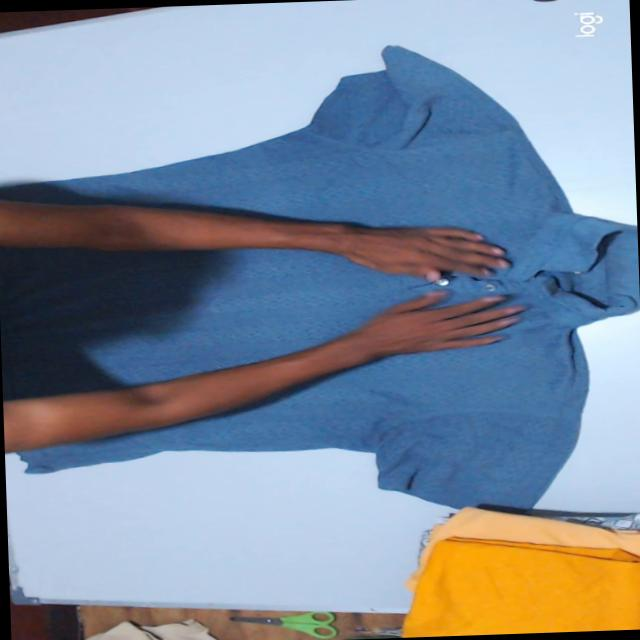new-garment: (0, 45, 639, 506)
